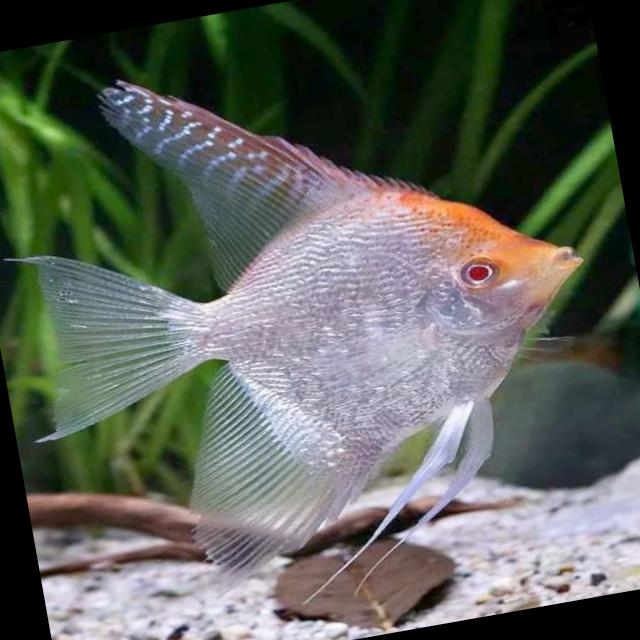AngelFish: (5, 6, 623, 600)
